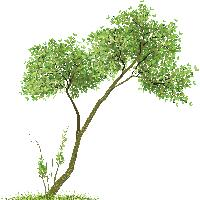tree: (22, 3, 198, 200)
